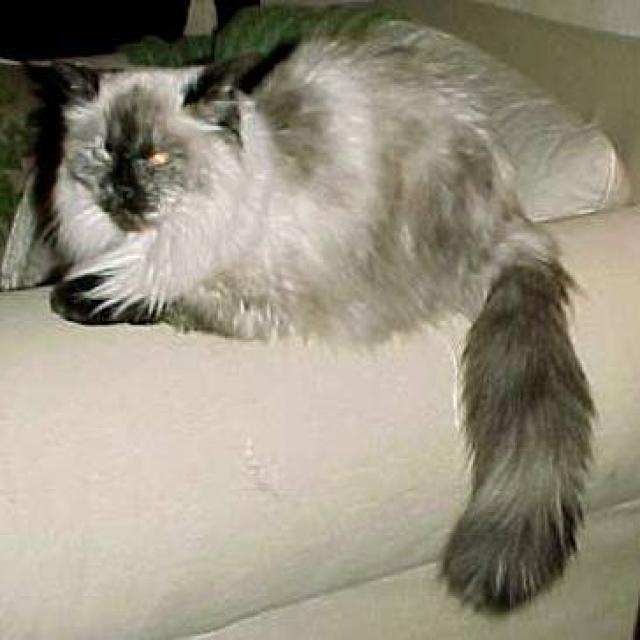cat: (0, 19, 600, 613)
